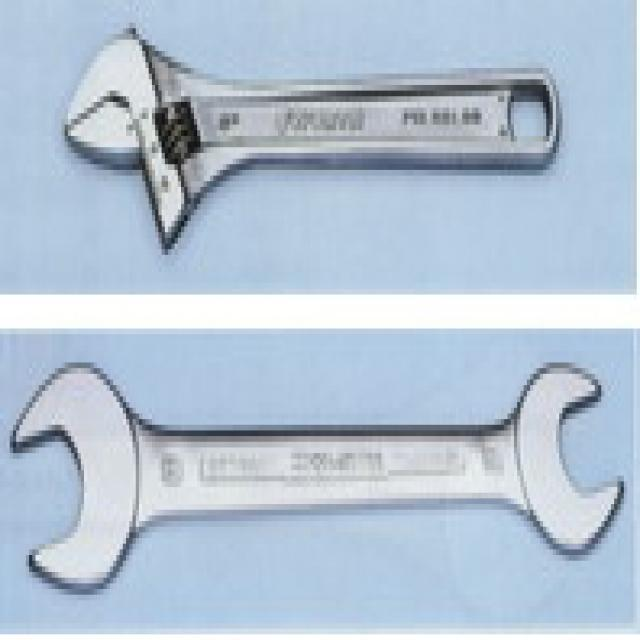wrench: (7, 354, 630, 602), (58, 17, 564, 261)
